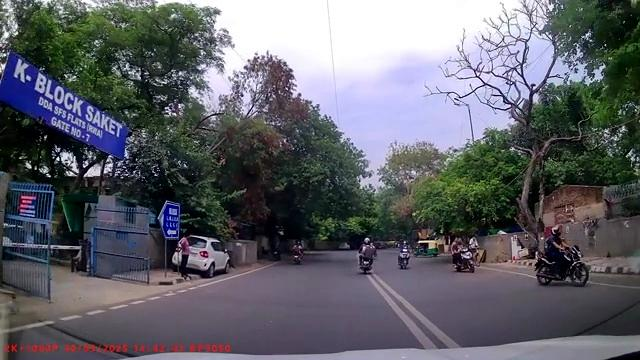motorcycle_with_helmet: (534, 224, 591, 287), (357, 236, 377, 274)
